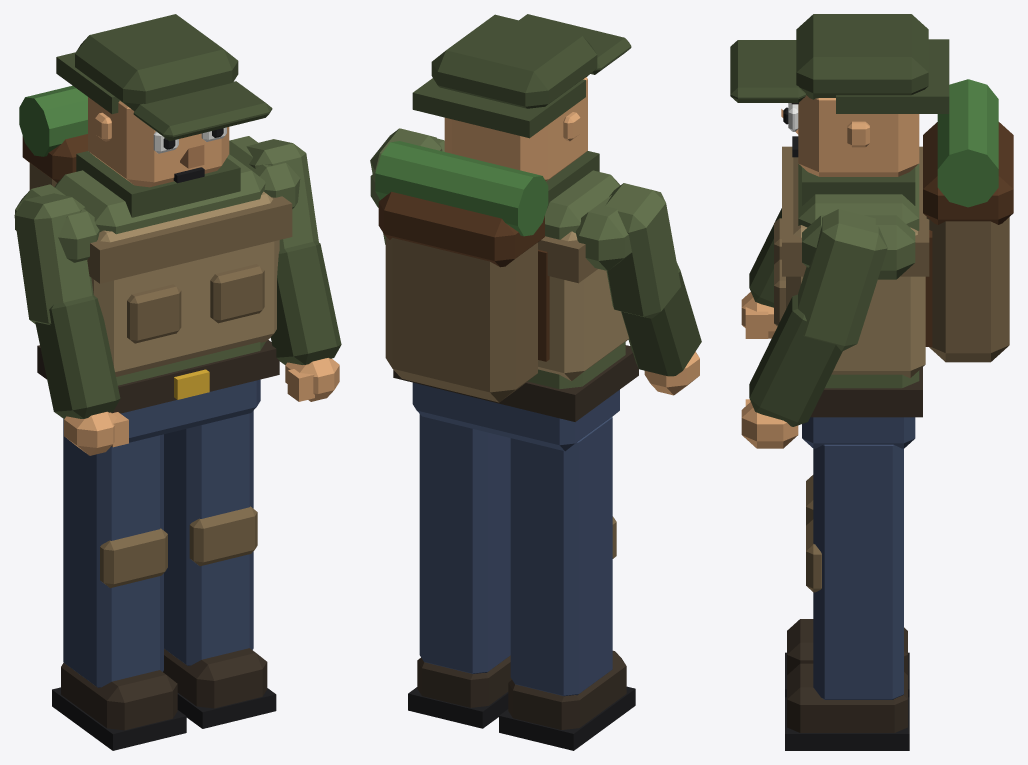
The model's file is char_ranger.glb.
The picture shows the model from 3 angles, left to right: view 1: azimuth 30°, elevation 25°; view 2: azimuth 150°, elevation 25°; view 3: azimuth 270°, elevation 25°; orthographic projection. The views are drawn at different scales.
Visible parts, largest first — view 1: char_ranger; view 2: char_ranger; view 3: char_ranger.
Boxes of the visible parts, x1,y1,x2,y2 form: char_ranger: (14,14,341,750); char_ranger: (370,14,701,750); char_ranger: (730,14,1013,750).
Bounding box in the file's own units: 0.85 × 1.98 × 0.75.
